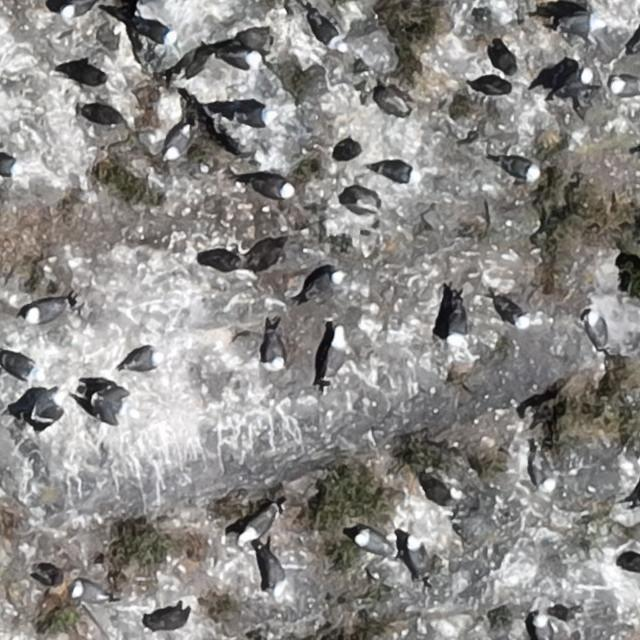F: (84, 380, 141, 425)
umineko: (318, 325, 350, 394), (552, 66, 594, 107), (223, 99, 277, 128), (254, 554, 288, 600), (311, 15, 348, 55), (307, 266, 345, 302), (425, 472, 464, 504), (120, 348, 166, 371), (244, 510, 275, 540), (248, 178, 292, 198), (448, 306, 467, 350), (27, 300, 64, 322), (32, 394, 61, 421), (502, 303, 532, 328), (376, 162, 415, 181), (165, 126, 188, 158), (503, 158, 538, 179), (2, 356, 33, 379), (264, 335, 284, 369), (355, 532, 387, 553), (141, 22, 173, 42), (408, 539, 426, 574), (534, 457, 553, 490), (67, 583, 101, 601), (587, 316, 606, 348), (226, 50, 258, 67), (61, 0, 92, 17), (612, 79, 639, 96), (534, 615, 551, 640), (0, 157, 19, 175)
